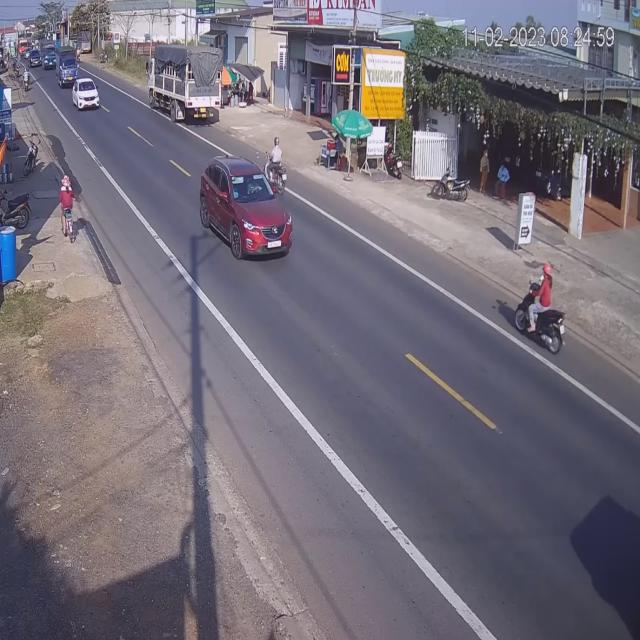car: (201, 156, 295, 260), (72, 76, 100, 111)
motorbike: (516, 263, 568, 353), (60, 173, 78, 241), (266, 136, 286, 196)
truck: (151, 41, 225, 124), (56, 42, 77, 88), (39, 37, 59, 68)
